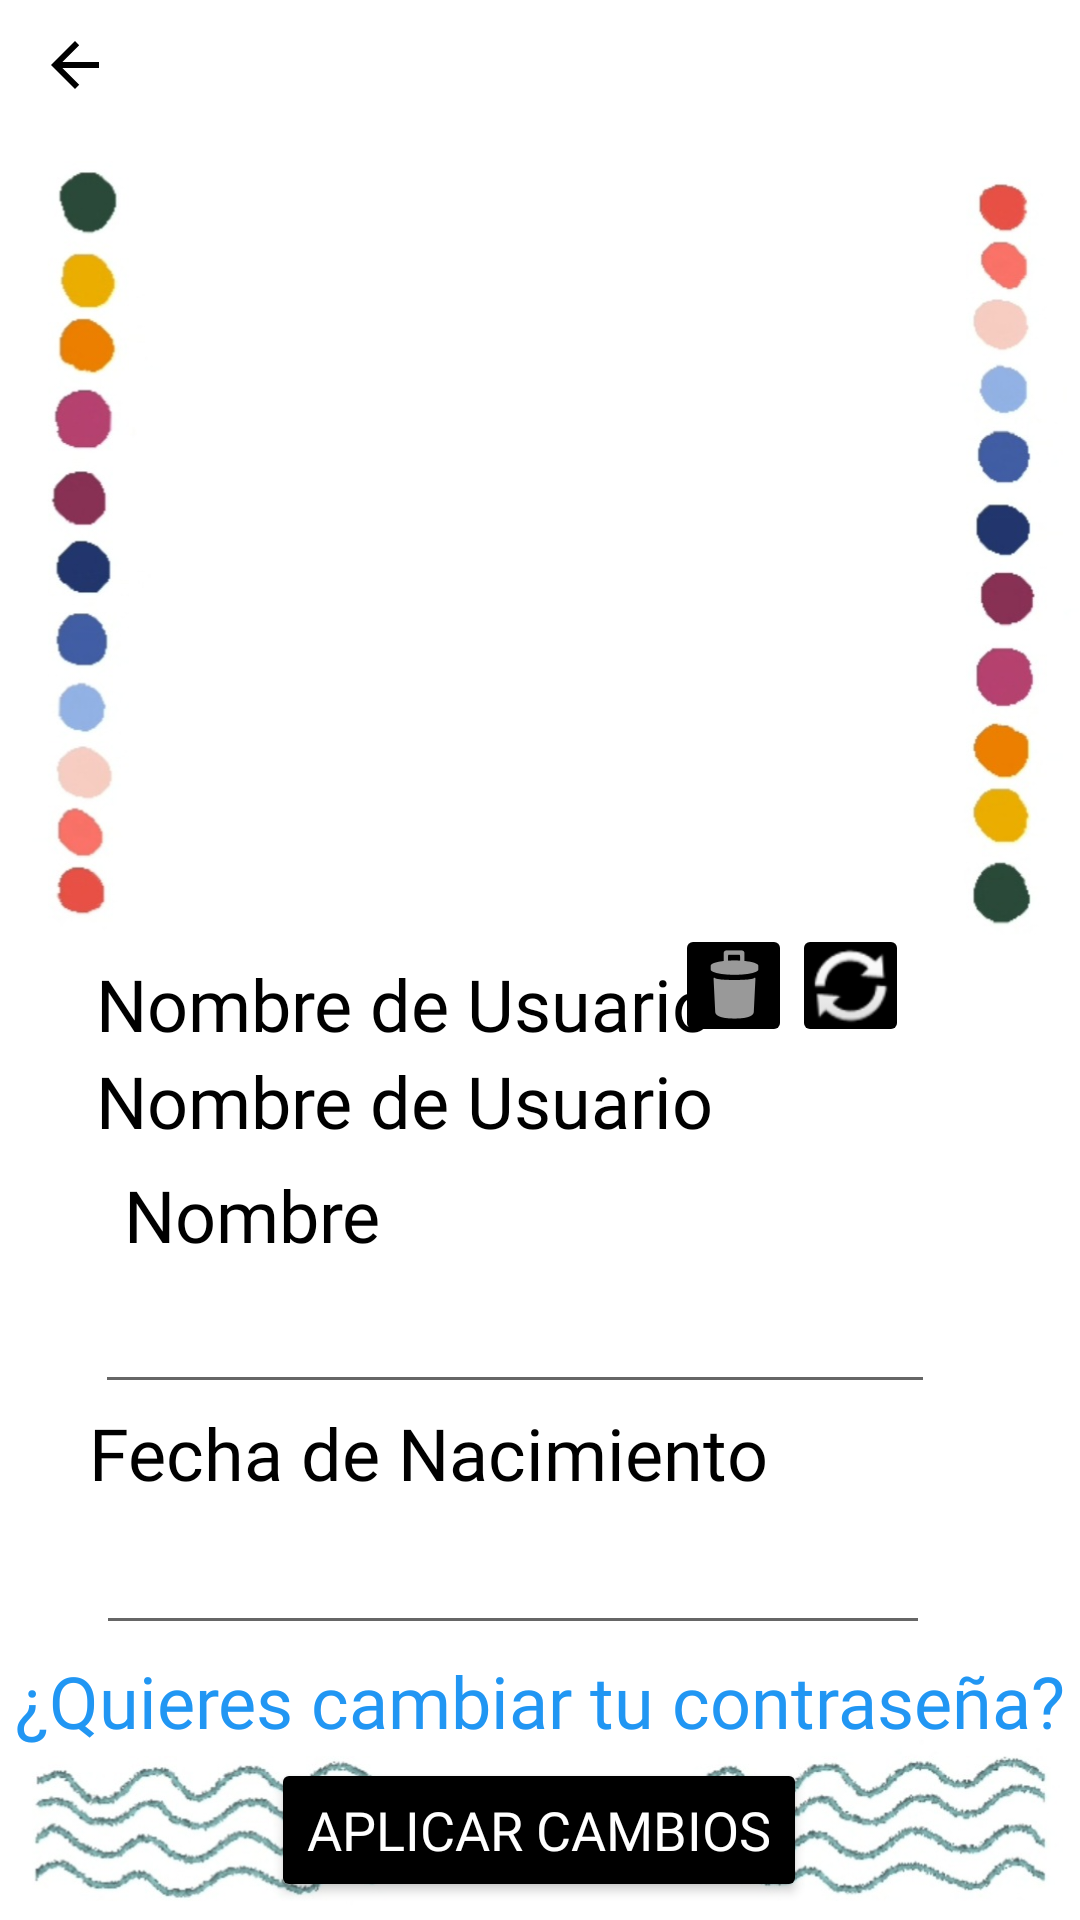

Icons on this 1080x1920 Android screen, each with its box as [x1,y1,x2,y2]:
delete: [675,942,780,1033]
popup sync: [804,942,897,1029]
